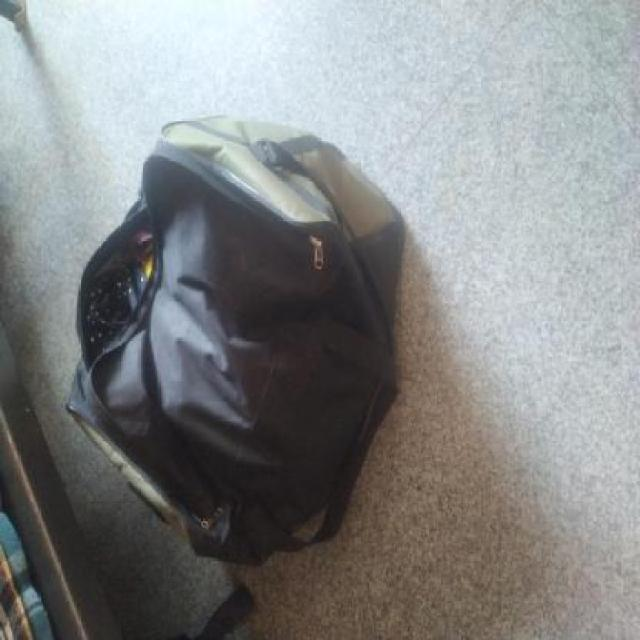backpack: (58, 107, 410, 578)
